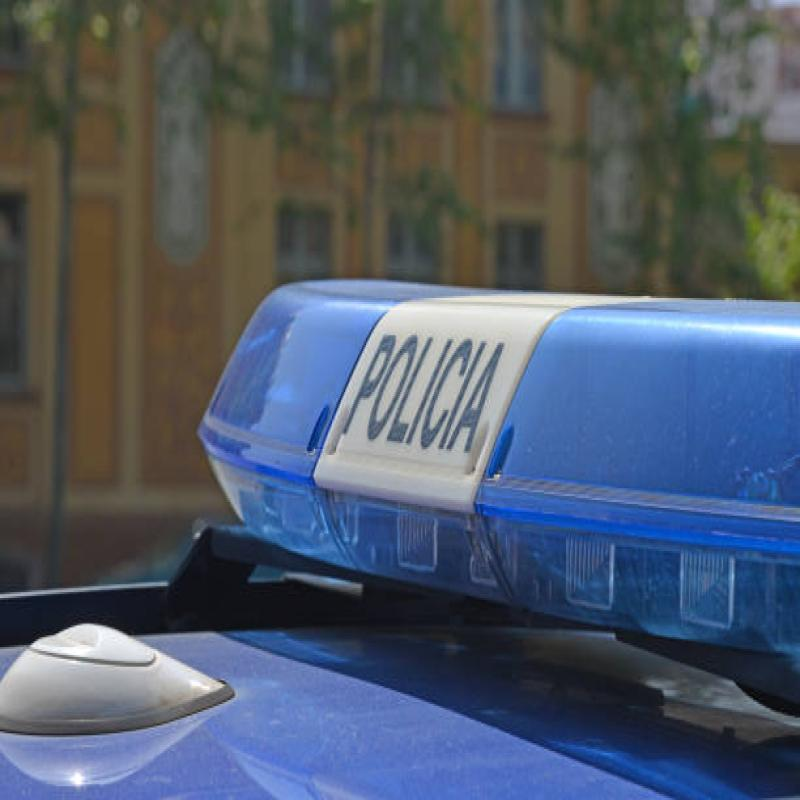AmbulanceSiren: (191, 223, 800, 650)
